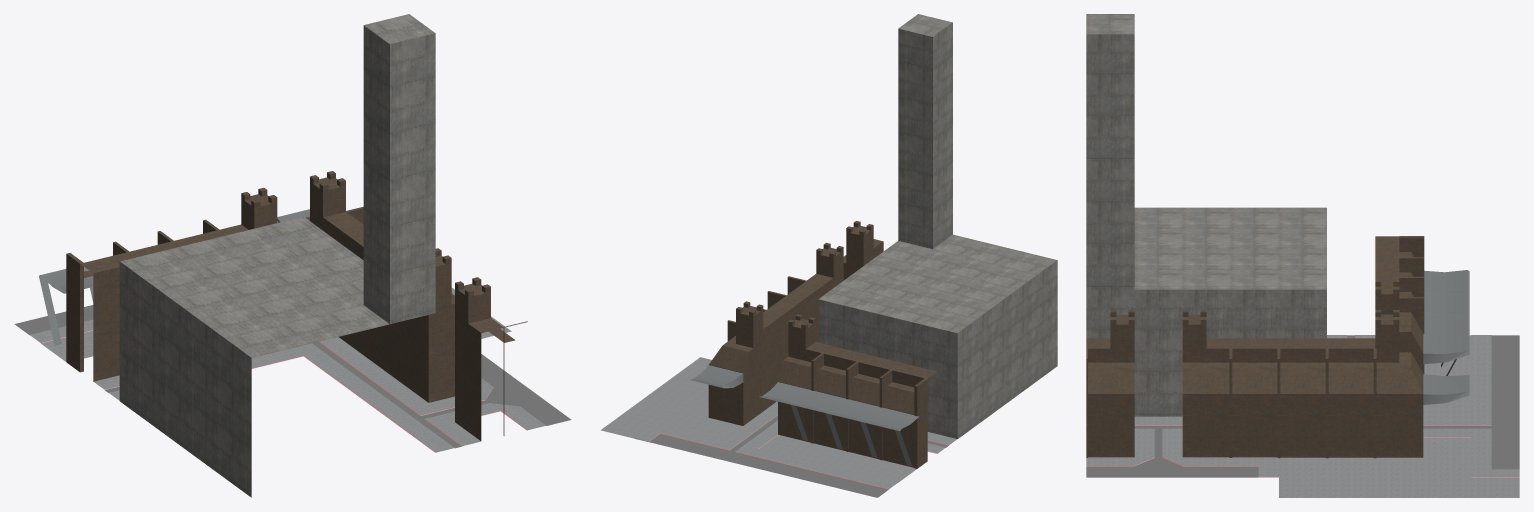
File: Section4.gltf
3 renders of one model, left to right at view 1: azimuth 30°, elevation 25°; view 2: azimuth 150°, elevation 25°; view 3: azimuth 270°, elevation 25°, orthographic. The views are drawn at different scales.
Parts seen in each view (by area): view 1: Section4; view 2: Section4; view 3: Section4.
Boxes of the visible parts, bbox=[...] form: Section4: bbox=[14, 14, 571, 497]; Section4: bbox=[601, 14, 1057, 497]; Section4: bbox=[1086, 14, 1519, 497].
Bounding box in the file's own units: 129 × 140 × 144.
Materials: 7 (4 with a texture image).
